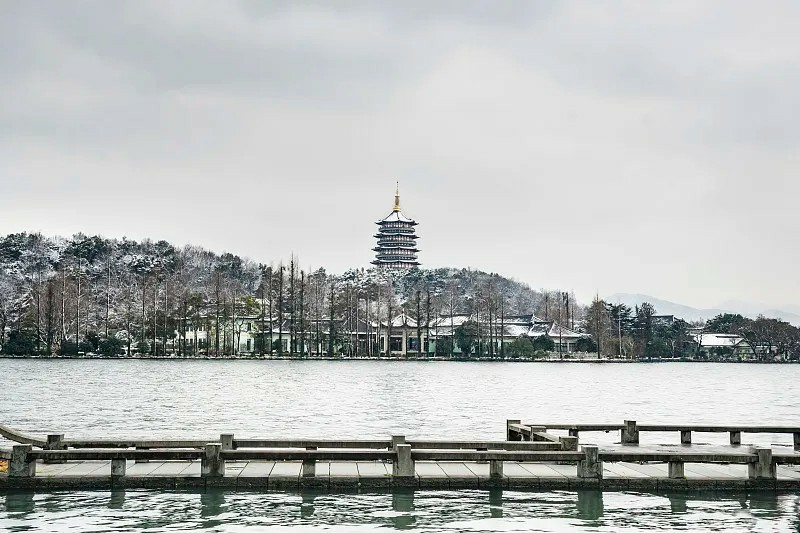Leifeng: (368, 178, 421, 279)
